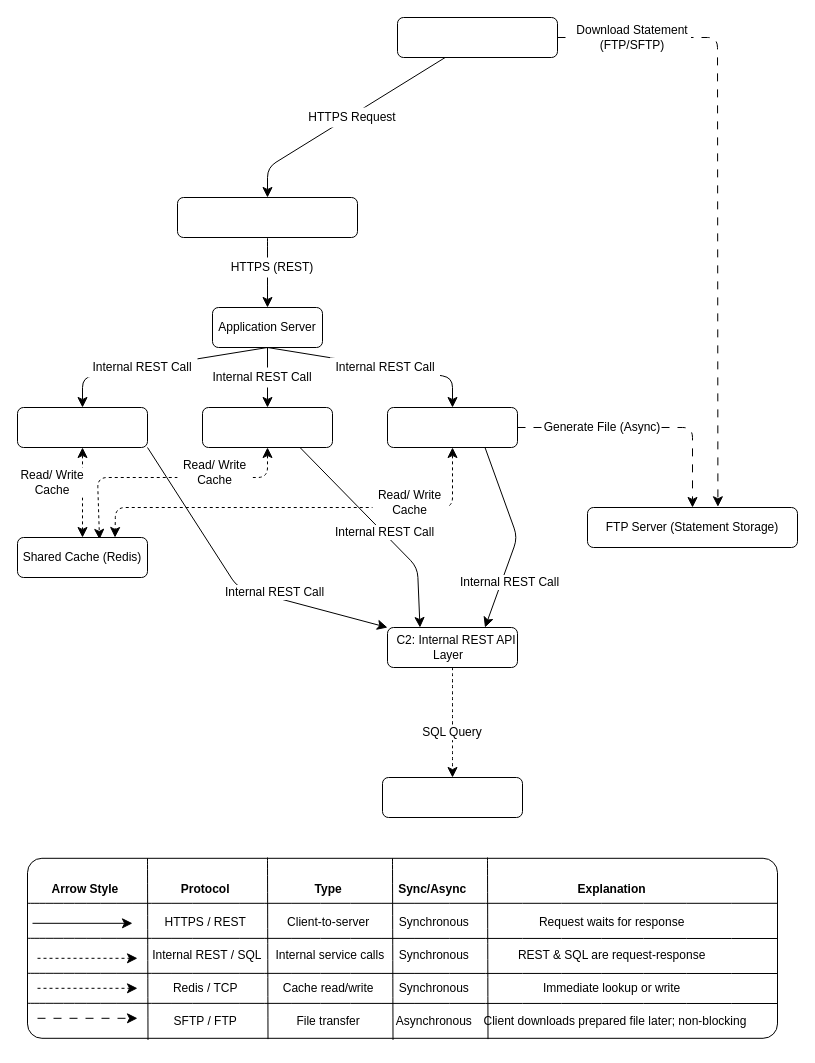
This 815x1063 diagram has some shape labels left out. The centre of each missing label's shape, as x and y in pixels:
C1: Secure Banking DB: the point at 452,797
Client (Web/Mobile ATM): the point at 477,37
Load Balancer (Nginx/HAProxy): the point at 267,217
WS1: User Account Management: the point at 82,427
WS2: Payment & Transfer Service: the point at 267,427
WS3: Transaction History / Reporting: the point at 452,427
